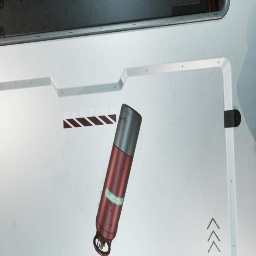0: (256, 140, 256, 141)
NitrogenTank ,: (93, 104, 142, 256)
